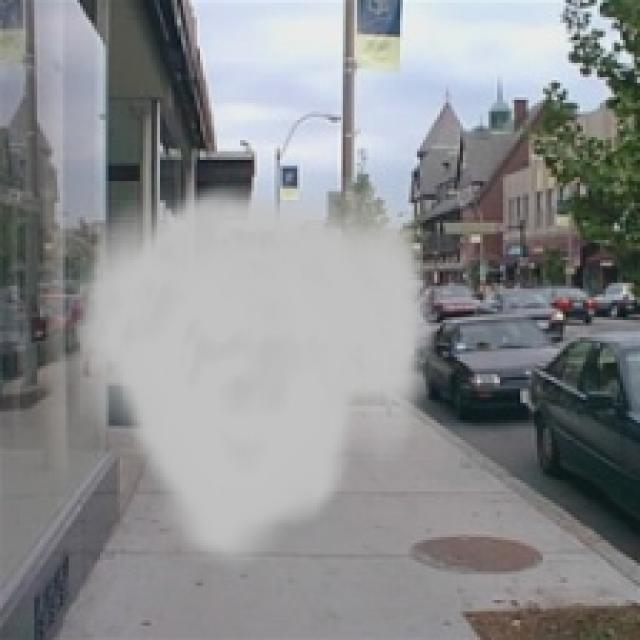Smoke: (60, 177, 437, 572)
